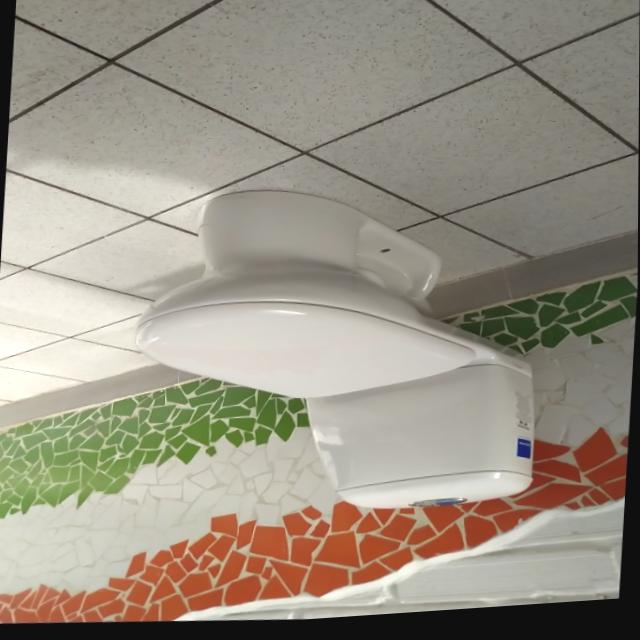toilet: (124, 173, 551, 537)
